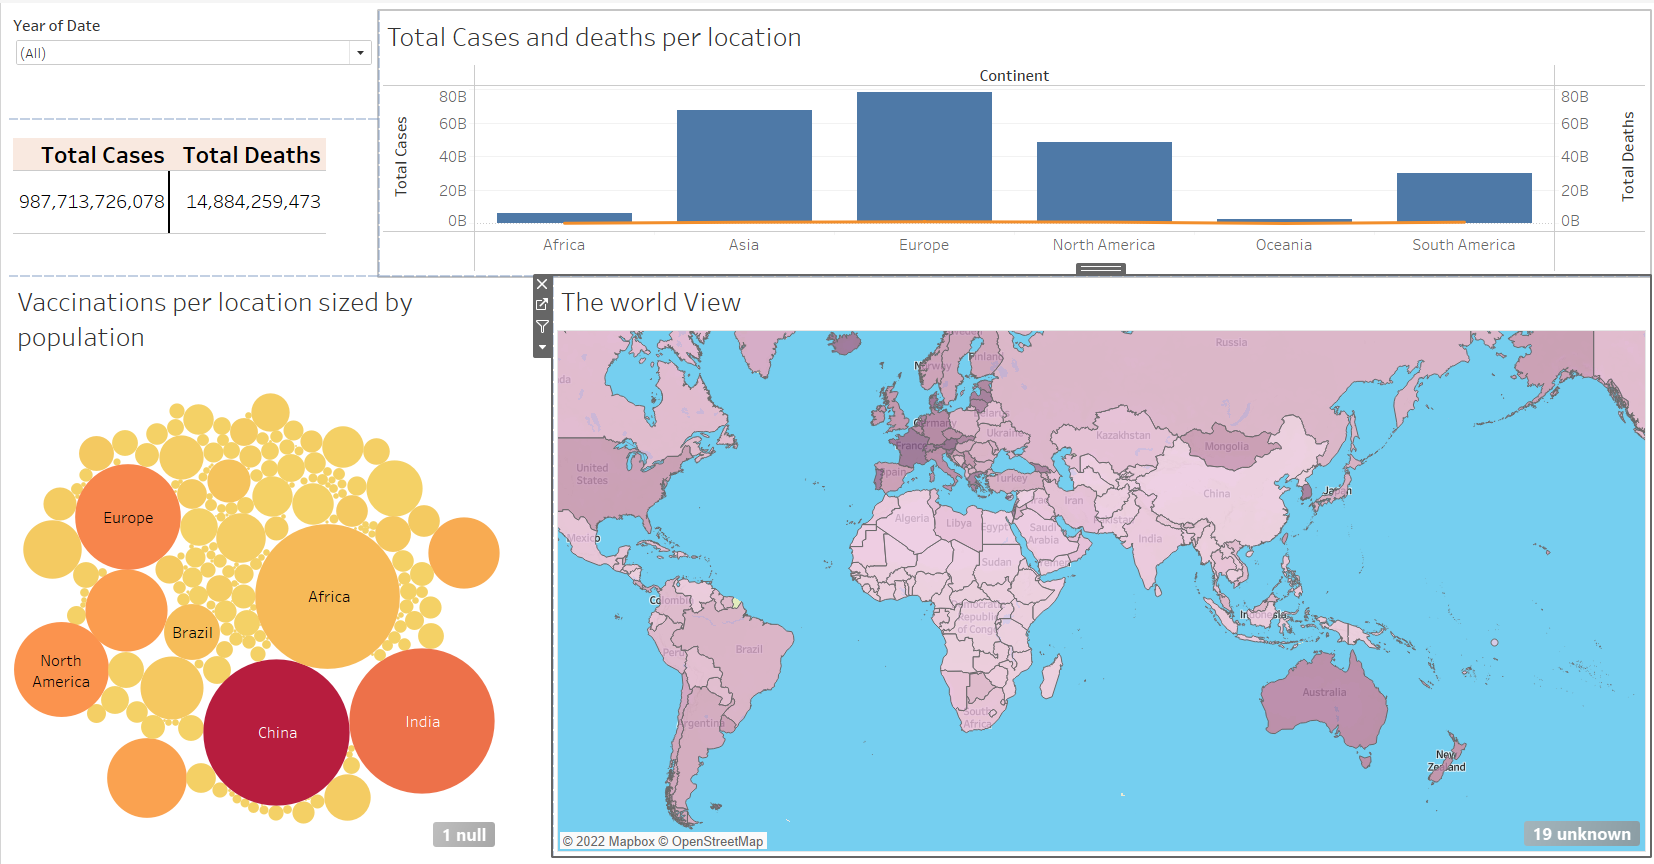

What the dashboard file says about the page in this screenshot:
{"tool":"tableau","page":{"name":"Dashboard 1","canvas":[1000,1000],"units":"permille","ordinal":0},"visuals":[{"type":"text","box":[4.8,9.3,160.8,171.9]},{"type":"filter","title":"Sheet 9","param":"[federated.01eca971yvnu1a1gagm6n1920efx].[none:ToRecipients.Address:nk]","box":[165.7,9.3,386.6,140.5]},{"type":"filter","title":"Sheet 1","param":"[federated.01eca971yvnu1a1gagm6n1920efx].[none:Sender.Name:nk]","box":[552.3,9.3,423.6,140.5]},{"type":"worksheet","title":"Sheet 9","mark":"Automatic","box":[975.9,9.3,19.3,37.2]},{"type":"worksheet","title":"Sheet 5","mark":"Automatic","box":[165.7,149.8,386.4,349.6]},{"type":"worksheet","title":"Sheet 6","mark":"Automatic","box":[552.1,149.8,423.8,349.6]},{"type":"worksheet","title":"Sheet 1","mark":"Automatic","box":[4.8,181.2,160.8,195.1]},{"type":"worksheet","title":"Sheet 3","mark":"Automatic","box":[4.8,376.3,160.8,191.6]},{"type":"worksheet","title":"Sheet 8","mark":"Pie","box":[165.7,499.4,386.4,491.3]},{"type":"worksheet","title":"Sheet 7","mark":"Circle","box":[552.1,499.4,423.8,491.3]},{"type":"worksheet","title":"Sheet 2","mark":"Automatic","box":[4.8,567.9,160.8,211.4]},{"type":"worksheet","title":"Sheet 4","mark":"Automatic","box":[4.8,779.3,160.8,211.4]}]}

Visuals, with their boxes on the dashboard's canvas, which has no fixed pixel size, in thousandths of its width and height (x1, y1, x2, y2). These are canvas units, not pixel positions in the 1654x864 screenshot, which may show the page scaled, cropped or inside an application window:
text: <bbox>5, 9, 166, 181</bbox>
"Sheet 9" filter: <bbox>166, 9, 552, 150</bbox>
"Sheet 1" filter: <bbox>552, 9, 976, 150</bbox>
"Sheet 9" worksheet: <bbox>976, 9, 995, 46</bbox>
"Sheet 5" worksheet: <bbox>166, 150, 552, 499</bbox>
"Sheet 6" worksheet: <bbox>552, 150, 976, 499</bbox>
"Sheet 1" worksheet: <bbox>5, 181, 166, 376</bbox>
"Sheet 3" worksheet: <bbox>5, 376, 166, 568</bbox>
"Sheet 8" worksheet (Pie marks): <bbox>166, 499, 552, 991</bbox>
"Sheet 7" worksheet (Circle marks): <bbox>552, 499, 976, 991</bbox>
"Sheet 2" worksheet: <bbox>5, 568, 166, 779</bbox>
"Sheet 4" worksheet: <bbox>5, 779, 166, 991</bbox>
